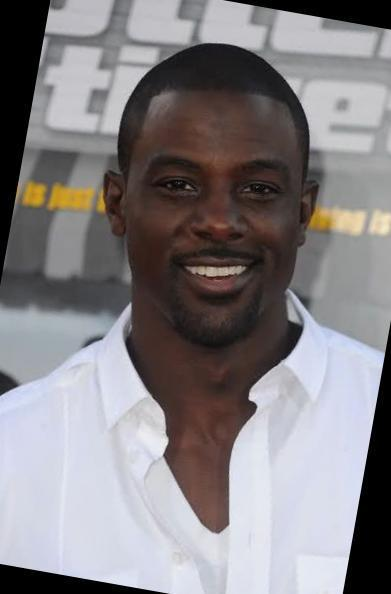Sober: (133, 97, 301, 323)
